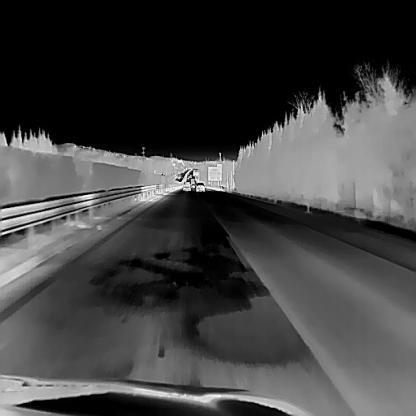car: (194, 181, 204, 191), (182, 180, 190, 190)
